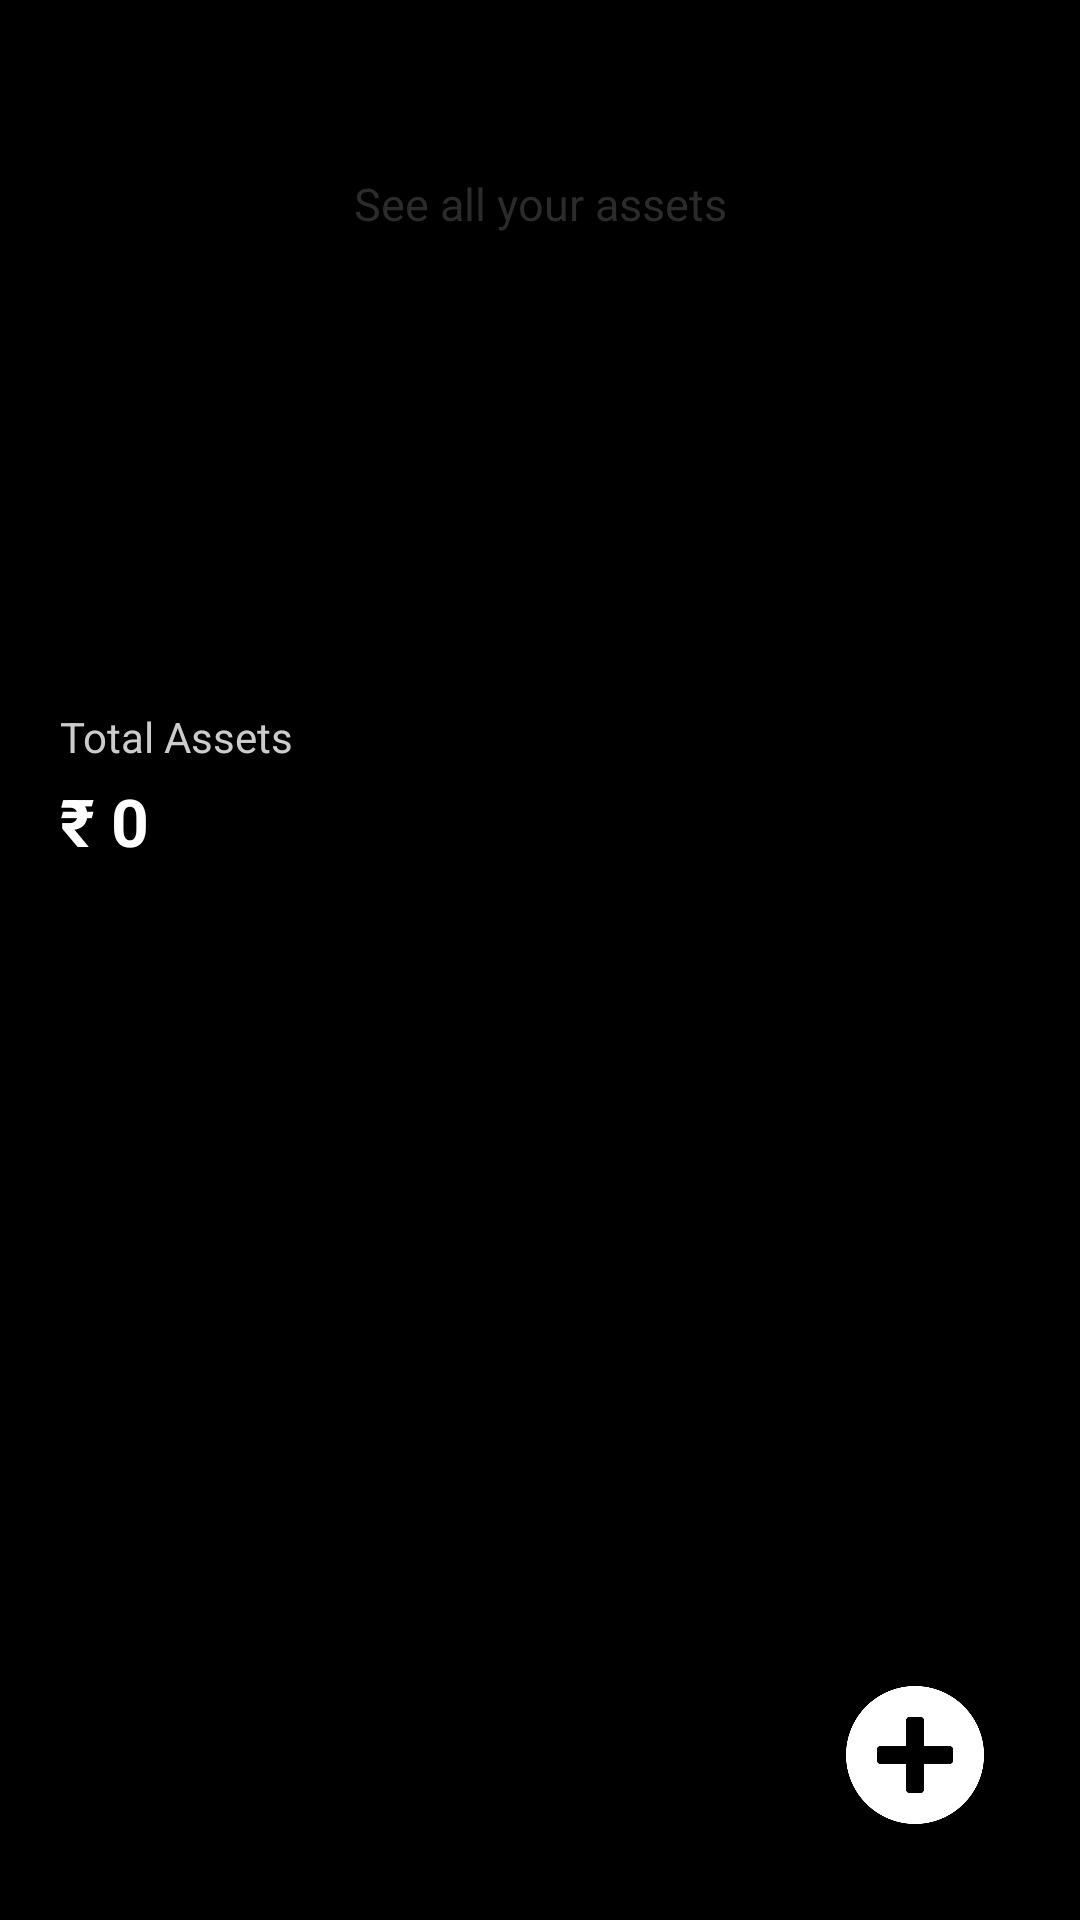

Icon bounding boxes for this 1080x1920 phone screenshot, format (x1, y1, x2, y2):
Add Asset: (846, 1686, 984, 1824)
